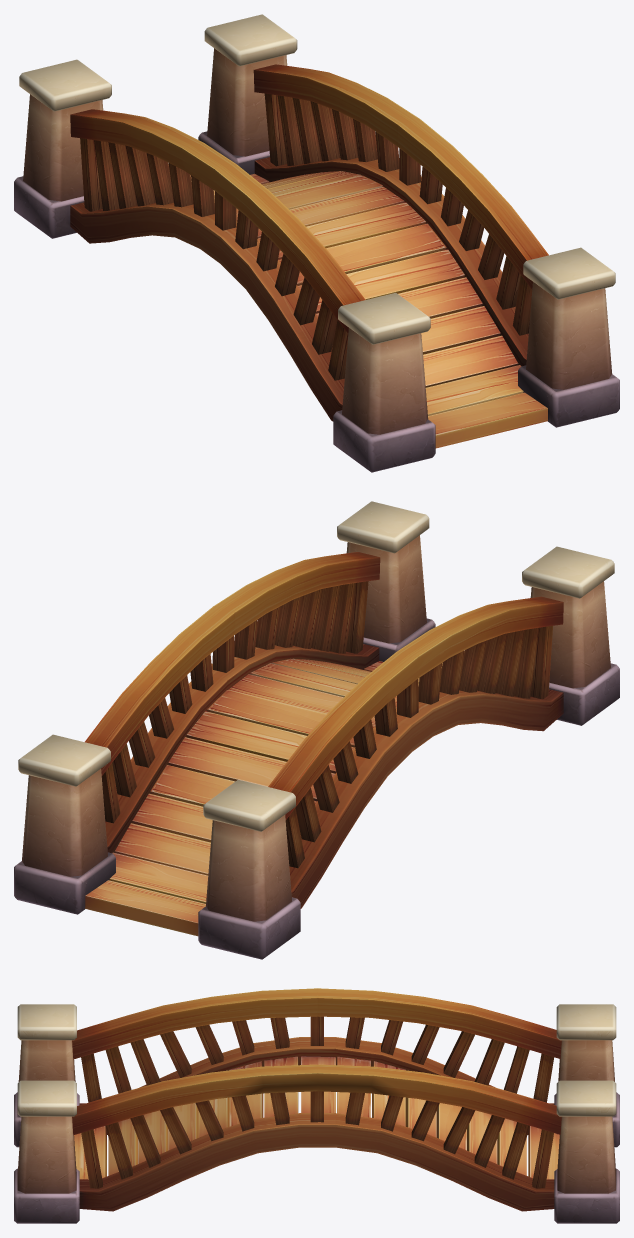
The model's file is SE_Bridge_01.fbx.
3 renders of one model, top to bottom at view 1: azimuth 30°, elevation 25°; view 2: azimuth 150°, elevation 25°; view 3: azimuth 270°, elevation 25°, orthographic. The views are drawn at different scales.
Visible parts, largest first — view 1: SE_Bridge_01; view 2: SE_Bridge_01; view 3: SE_Bridge_01.
Part boxes in pixels (x1=…): SE_Bridge_01: x1=14, y1=14, x2=619, y2=472; SE_Bridge_01: x1=14, y1=501, x2=619, y2=959; SE_Bridge_01: x1=14, y1=988, x2=619, y2=1223.
Size of the model in its own units: 6.73 by 4.31 by 16.59.
